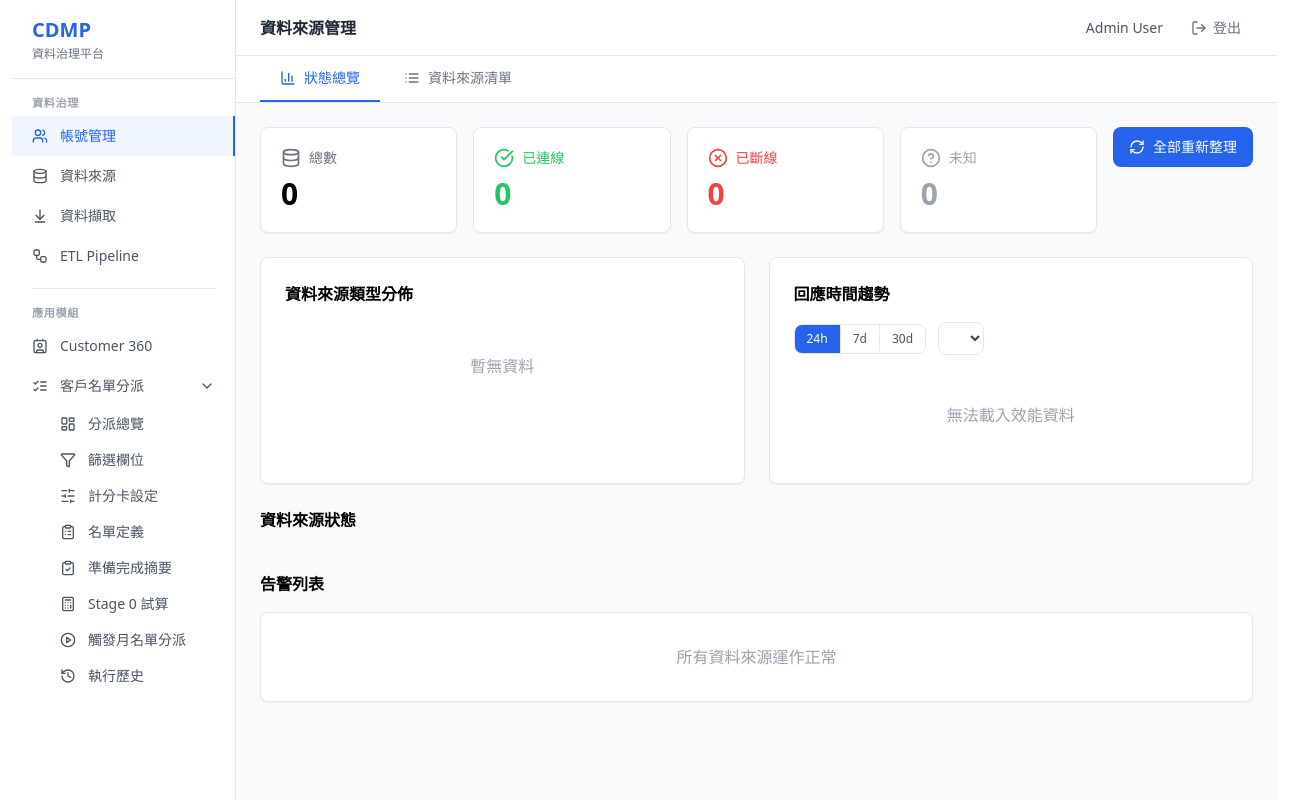
DatasourceListPage › 檢視模式切換 › should switch to card view when card button clicked
The width and height of the screenshot is (1292, 800).
Click the tab with test id "tab-list": {"x": 458, "y": 79} [384,56,532,102]
Wait 1350 ms
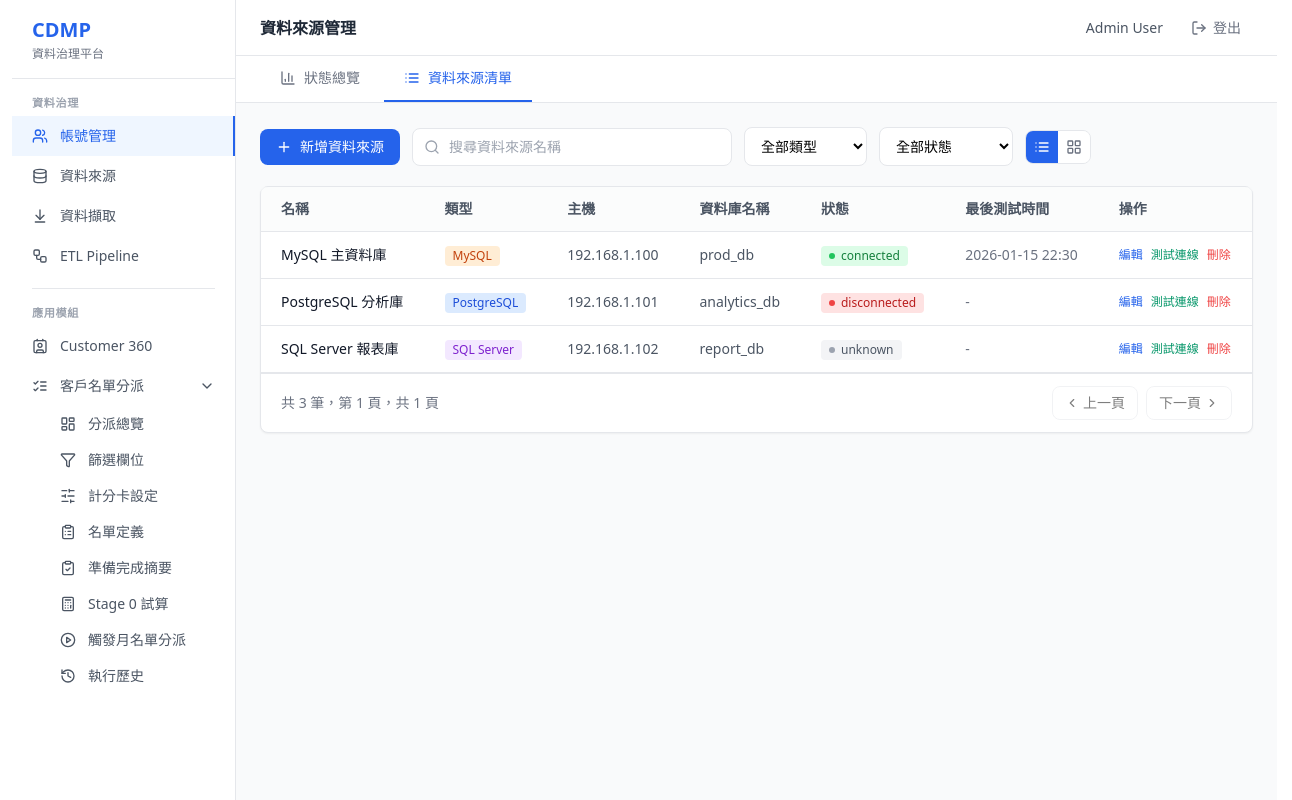
Click the button named "卡片檢視": {"x": 1074, "y": 146} [1058,130,1090,162]
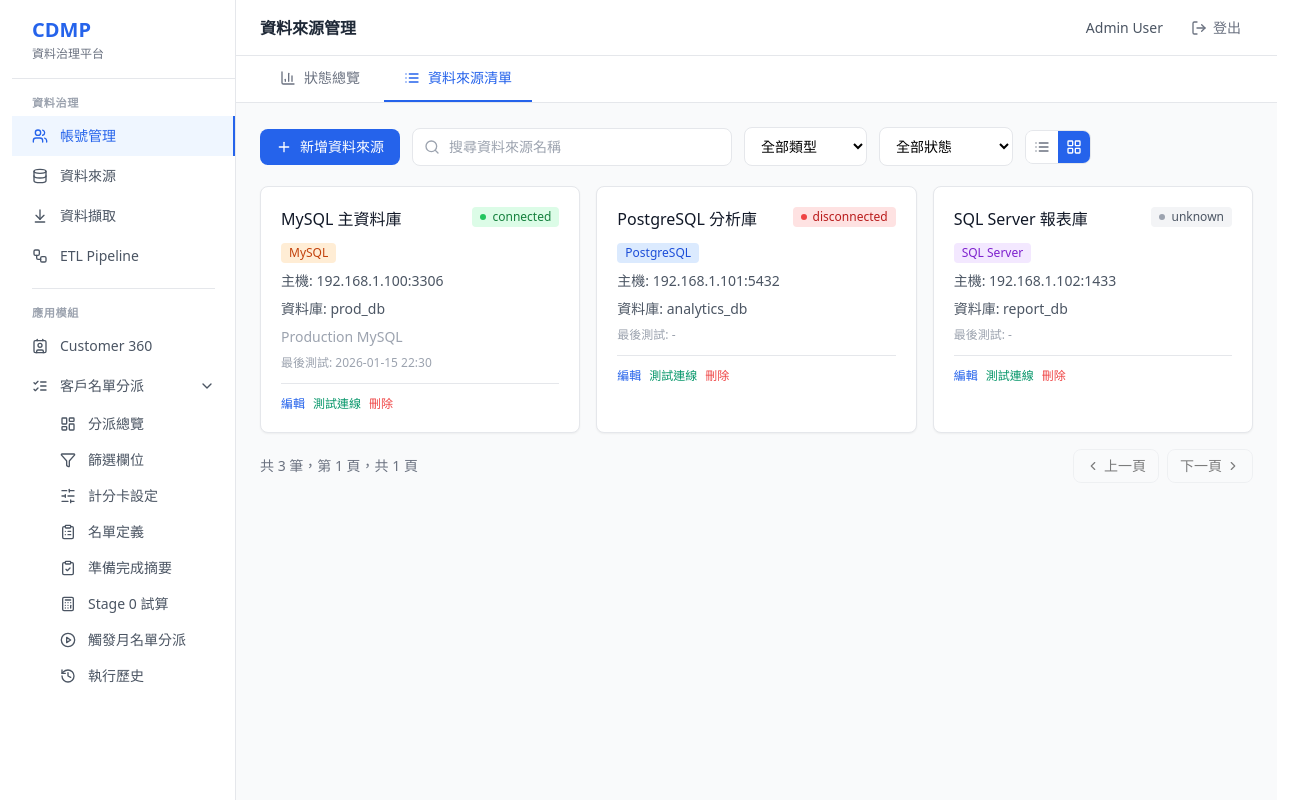
Check: the text "主機: 192.168.1.100:3306" is shown, box [281,271,444,290]
